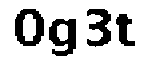0: (13, 5, 46, 50)
3: (81, 8, 111, 51)
g: (46, 16, 80, 59)
t: (115, 13, 137, 51)
